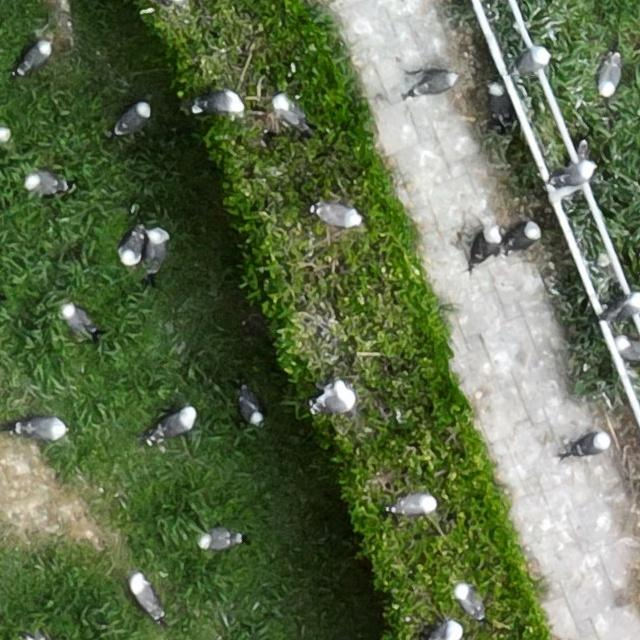umineko: (471, 225, 501, 270), (488, 80, 510, 126), (156, 408, 194, 434), (117, 104, 149, 134), (321, 383, 354, 412), (318, 203, 361, 225), (132, 576, 158, 612), (23, 416, 67, 437), (20, 40, 49, 70), (457, 584, 484, 616), (202, 91, 243, 112), (394, 494, 436, 514), (600, 56, 622, 94), (120, 230, 142, 264), (62, 304, 88, 332), (202, 530, 238, 550), (148, 228, 168, 264), (419, 74, 458, 92), (239, 392, 260, 425), (517, 49, 547, 72), (560, 164, 594, 184), (509, 223, 538, 246), (28, 171, 61, 191), (578, 434, 608, 454), (617, 294, 640, 316), (619, 338, 640, 359), (0, 121, 8, 142)
